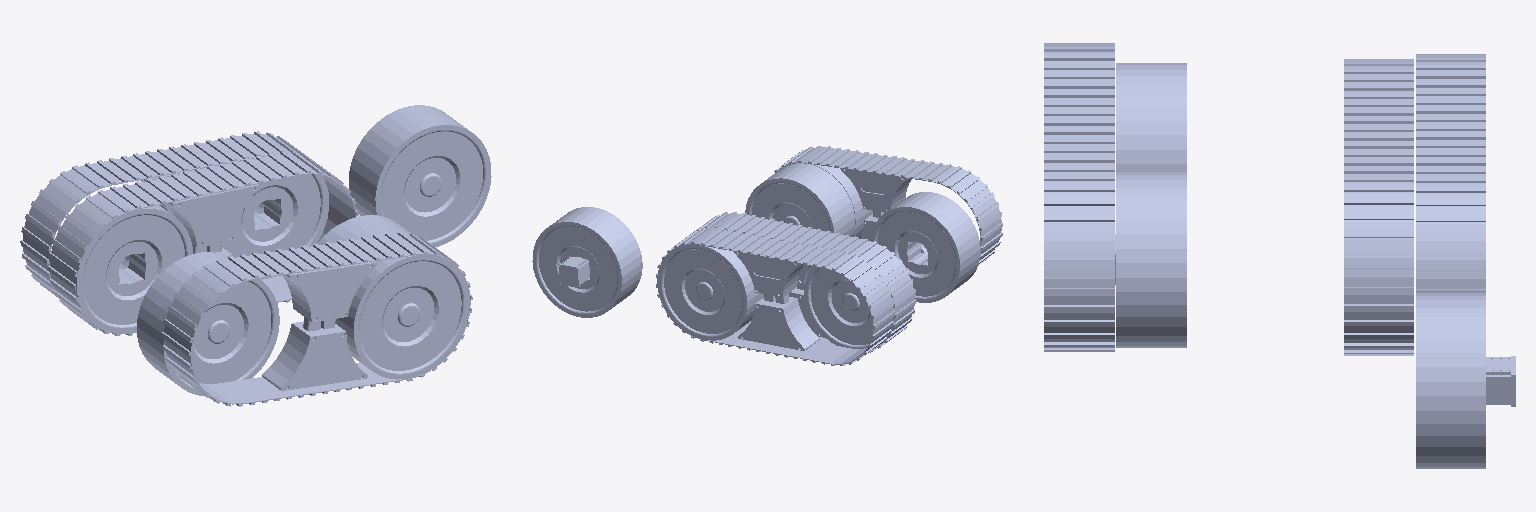
URDF robot description (robot-description-irvin):
<?xml version="1.0" encoding="utf-8"?>
<!-- This URDF was automatically created by SolidWorks to URDF Exporter! Originally created by [author] ([email redacted]) 
     Commit Version: 1.5.0-0-g9aa0fdb  Build Version: 1.5.7004.21443
     For more information, please see http://wiki.ros.org/sw_urdf_exporter -->
<robot
  name="robot-description-irvin">
    <gazebo>
    <plugin filename="libgazebo_ros_diff_drive.so" name="differential_drive_controller">
      <alwaysOn>true</alwaysOn>
      <updateRate>20</updateRate>
      <leftJoint>left_outer_track_rear_joint</leftJoint>
      <rightJoint>right_outer_rear_track_joint</rightJoint>
      <wheelSeparation>0.5207</wheelSeparation>
      <wheelDiameter>0.0381</wheelDiameter>
      <torque>0.1</torque>
      <commandTopic>cmd_vel</commandTopic>
      <odometryTopic>odom</odometryTopic>
      <odometryFrame>odom</odometryFrame>
      <robotBaseFrame>base_link</robotBaseFrame>
      <legacyMode>false</legacyMode>
    </plugin>
  </gazebo>
  <link
    name="base_link">
    <inertial>
      <origin
        xyz="0.0593277196241563 -0.229051233143237 0.316329557872373"
        rpy="0 0 0" />
      <mass
        value="6.90496213213785" />
      <inertia
        ixx="0.0618749358211769"
        ixy="-5.30670580740332E-07"
        ixz="-0.000799972791594144"
        iyy="0.0558956803247678"
        iyz="-5.54041887308258E-07"
        izz="0.0408724634072406" />
    </inertial>
    <visual>
      <origin
        xyz="0 0 0"
        rpy="0 0 0" />
      <geometry>
        <mesh
          filename="package://robot-description-irvin/meshes/base_link.STL" />
      </geometry>
      <material
        name="">
        <color
          rgba="0.792156862745098 0.819607843137255 0.933333333333333 1" />
      </material>
    </visual>
    <collision>
      <origin
        xyz="0 0 0"
        rpy="0 0 0" />
      <geometry>
        <mesh
          filename="package://robot-description-irvin/meshes/base_link.STL" />
      </geometry>
    </collision>
  </link>
  <link
    name="left_inner_rear_track_link">
    <inertial>
      <origin
        xyz="-0.35 0.0013359 -0.0002195"
        rpy="0 0 0" />
      <mass
        value="4.1753" />
      <inertia
        ixx="0.020717"
        ixy="-1.2309E-08"
        ixz="1.7916E-13"
        iyy="0.020715"
        iyz="2.5554E-11"
        izz="0.035633" />
    </inertial>
    <visual>
      <origin
        xyz="0 0 0"
        rpy="0 0 0" />
      <geometry>
        <mesh
          filename="package://robot-description-irvin/meshes/left_inner_rear_track_link.STL" />
      </geometry>
      <material
        name="">
        <color
          rgba="0.79216 0.81961 0.93333 1" />
      </material>
    </visual>
    <collision>
      <origin
        xyz="0 0 0"
        rpy="0 0 0" />
      <geometry>
        <mesh
          filename="package://robot-description-irvin/meshes/left_inner_rear_track_link.STL" />
      </geometry>
    </collision>
  </link>
  <joint
    name="left_inner_rear_track_joint"
    type="revolute">
    <origin
      xyz="0.40808 -0.068572 0.27695"
      rpy="1.5708 0.031025 0" />
    <parent
      link="base_link" />
    <child
      link="left_inner_rear_track_link" />
    <axis
      xyz="0 0 0" />
    <limit
      lower="0"
      upper="0"
      effort="0"
      velocity="0" />
    <safety_controller
      k_velocity="0" />
  </joint>
  <link
    name="left_inner_track_base_link">
    <inertial>
      <origin
        xyz="0.207914697106206 -0.00037461869138905 -0.00134460830658915"
        rpy="0 0 0" />
      <mass
        value="2.20888146035223" />
      <inertia
        ixx="0.0176750004221534"
        ixy="1.80580947801924E-07"
        ixz="-3.08108847310402E-06"
        iyy="0.0230757058106448"
        iyz="-1.32662462436398E-05"
        izz="0.0385405863901358" />
    </inertial>
    <visual>
      <origin
        xyz="0 0 0"
        rpy="0 0 0" />
      <geometry>
        <mesh
          filename="package://robot-description-irvin/meshes/left_inner_track_base_link.STL" />
      </geometry>
      <material
        name="">
        <color
          rgba="0.792156862745098 0.819607843137255 0.933333333333333 1" />
      </material>
    </visual>
    <collision>
      <origin
        xyz="0 0 0"
        rpy="0 0 0" />
      <geometry>
        <mesh
          filename="package://robot-description-irvin/meshes/left_inner_track_base_link.STL" />
      </geometry>
    </collision>
  </link>
  <joint
    name="left_inner_track_base_joint"
    type="fixed">
    <origin
      xyz="-0.38203 0.0023495 0.0065379"
      rpy="0 0 0" />
    <parent
      link="left_inner_rear_track_link" />
    <child
      link="left_inner_track_base_link" />
    <axis
      xyz="0 0 0" />
    <safety_controller
      k_velocity="0" />
  </joint>
  <link
    name="left_inner_front_track_link">
    <inertial>
      <origin
        xyz="0.000219496334918079 0.00133590913055326 -8.99941240734004E-06"
        rpy="0 0 0" />
      <mass
        value="4.17528833969494" />
      <inertia
        ixx="0.0356331254802435"
        ixy="2.55550739996529E-11"
        ixz="-2.01417804650358E-10"
        iyy="0.0207154350077636"
        iyz="1.02310762553862E-10"
        izz="0.0207172057262986" />
    </inertial>
    <visual>
      <origin
        xyz="0 0 0"
        rpy="0 0 0" />
      <geometry>
        <mesh
          filename="package://robot-description-irvin/meshes/left_inner_front_track_link.STL" />
      </geometry>
      <material
        name="">
        <color
          rgba="0.792156862745098 0.819607843137255 0.933333333333333 1" />
      </material>
    </visual>
    <collision>
      <origin
        xyz="0 0 0"
        rpy="0 0 0" />
      <geometry>
        <mesh
          filename="package://robot-description-irvin/meshes/left_inner_front_track_link.STL" />
      </geometry>
    </collision>
  </link>
  <joint
    name="left_inner_front_track_joint"
    type="revolute">
    <origin
      xyz="0.38203 -0.0023495 -0.0065379"
      rpy="3.1416 -1.5708 -3.1368" />
    <parent
      link="left_inner_track_base_link" />
    <child
      link="left_inner_front_track_link" />
    <axis
      xyz="0 0 0" />
    <limit
      lower="0"
      upper="0"
      effort="0"
      velocity="0" />
    <safety_controller
      k_velocity="0" />
  </joint>
  <link
    name="left_outer_track_front_link">
    <inertial>
      <origin
        xyz="0.000219496335038039 -4.75186556769813E-12 8.44879721739744E-14"
        rpy="0 0 0" />
      <mass
        value="4.17528833969494" />
      <inertia
        ixx="0.0356331254802435"
        ixy="-1.94648504078499E-10"
        ixz="5.74457396623407E-12"
        iyy="0.0207154350077636"
        iyz="1.02310762854013E-10"
        izz="0.0207172057262986" />
    </inertial>
    <visual>
      <origin
        xyz="0 0 0"
        rpy="0 0 0" />
      <geometry>
        <mesh
          filename="package://robot-description-irvin/meshes/left_outer_track_front_link.STL" />
      </geometry>
      <material
        name="">
        <color
          rgba="0.792156862745098 0.819607843137255 0.933333333333333 1" />
      </material>
    </visual>
    <collision>
      <origin
        xyz="0 0 0"
        rpy="0 0 0" />
      <geometry>
        <mesh
          filename="package://robot-description-irvin/meshes/left_outer_track_front_link.STL" />
      </geometry>
    </collision>
  </link>
  <joint
    name="left_outer_track_front_joint"
    type="revolute">
    <origin
      xyz="-0.10172 0.0013359 0"
      rpy="3.1416 0 3.1416" />
    <parent
      link="left_inner_front_track_link" />
    <child
      link="left_outer_track_front_link" />
    <axis
      xyz="0 0 0" />
    <limit
      lower="0"
      upper="0"
      effort="0"
      velocity="0" />
    <safety_controller
      k_velocity="0" />
  </joint>
  <link
    name="left_out_track_base_link">
    <inertial>
      <origin
        xyz="0.207914697106206 -0.000374618691388662 -0.00134460830658937"
        rpy="0 0 0" />
      <mass
        value="2.20888146035223" />
      <inertia
        ixx="0.0176750004221534"
        ixy="1.80580947832824E-07"
        ixz="-3.08108847311774E-06"
        iyy="0.0230757058106447"
        iyz="-1.32662462436444E-05"
        izz="0.0385405863901357" />
    </inertial>
    <visual>
      <origin
        xyz="0 0 0"
        rpy="0 0 0" />
      <geometry>
        <mesh
          filename="package://robot-description-irvin/meshes/left_out_track_base_link.STL" />
      </geometry>
      <material
        name="">
        <color
          rgba="0.792156862745098 0.819607843137255 0.933333333333333 1" />
      </material>
    </visual>
    <collision>
      <origin
        xyz="0 0 0"
        rpy="0 0 0" />
      <geometry>
        <mesh
          filename="package://robot-description-irvin/meshes/left_out_track_base_link.STL" />
      </geometry>
    </collision>
  </link>
  <joint
    name="left_out_track_base_joint"
    type="fixed">
    <origin
      xyz="-0.0065379 0.011325 -0.38187"
      rpy="1.5708 -1.5438 -1.5708" />
    <parent
      link="left_outer_track_front_link" />
    <child
      link="left_out_track_base_link" />
    <axis
      xyz="0 0 0" />
    <safety_controller
      k_velocity="0" />
  </joint>
  <link
    name="left_outer_track_rear_link">
    <inertial>
      <origin
        xyz="-0.103779813928151 -0.00353814246978357 0.3500116932782"
        rpy="0 0 0" />
      <mass
        value="4.50966940783013" />
      <inertia
        ixx="0.0357811712676882"
        ixy="2.55694481991313E-11"
        ixz="-2.75684776123974E-09"
        iyy="0.0215005330957408"
        iyz="1.02310762441461E-10"
        izz="0.0215020932401328" />
    </inertial>
    <visual>
      <origin
        xyz="0 0 0"
        rpy="0 0 0" />
      <geometry>
        <mesh
          filename="package://robot-description-irvin/meshes/left_outer_track_rear_link.STL" />
      </geometry>
      <material
        name="">
        <color
          rgba="0.792156862745098 0.819607843137255 0.933333333333333 1" />
      </material>
    </visual>
    <collision>
      <origin
        xyz="0 0 0"
        rpy="0 0 0" />
      <geometry>
        <mesh
          filename="package://robot-description-irvin/meshes/left_outer_track_rear_link.STL" />
      </geometry>
    </collision>
  </link>
  <joint
    name="left_outer_track_rear_joint"
    type="continuous">
    <origin
      xyz="0.38206 -0.0023492 0.095182"
      rpy="3.1277 -1.5708 0" />
    <parent
      link="left_out_track_base_link" />
    <child
      link="left_outer_track_rear_link" />
    <axis
      xyz="0 0 -1" />
    <safety_controller
      k_velocity="0" />
  </joint>
  <link
    name="right_inner_track_link">
    <inertial>
      <origin
        xyz="0.000219496335037983 1.50746082283604E-12 -1.14824816321857E-13"
        rpy="0 0 0" />
      <mass
        value="4.17528833969495" />
      <inertia
        ixx="0.0356331254802435"
        ixy="-2.54811794464166E-11"
        ixz="1.94202072045672E-12"
        iyy="0.0207154452496313"
        iyz="1.34277993979232E-07"
        izz="0.0207171954844308" />
    </inertial>
    <visual>
      <origin
        xyz="0 0 0"
        rpy="0 0 0" />
      <geometry>
        <mesh
          filename="package://robot-description-irvin/meshes/right_inner_track_link.STL" />
      </geometry>
      <material
        name="">
        <color
          rgba="0.792156862745098 0.819607843137255 0.933333333333333 1" />
      </material>
    </visual>
    <collision>
      <origin
        xyz="0 0 0"
        rpy="0 0 0" />
      <geometry>
        <mesh
          filename="package://robot-description-irvin/meshes/right_inner_track_link.STL" />
      </geometry>
    </collision>
  </link>
  <joint
    name="right_inner_track_joint"
    type="revolute">
    <origin
      xyz="0.058294 -0.38953 0.28914"
      rpy="1.6088 0 -1.5708" />
    <parent
      link="base_link" />
    <child
      link="right_inner_track_link" />
    <axis
      xyz="0 0 0" />
    <limit
      lower="0"
      upper="0"
      effort="0"
      velocity="0" />
    <safety_controller
      k_velocity="0" />
  </joint>
  <link
    name="right_inner_track_base_link">
    <inertial>
      <origin
        xyz="0.175882862618142 0.000638911171242873 -0.00480669220342189"
        rpy="0 0 0" />
      <mass
        value="2.20888146035223" />
      <inertia
        ixx="0.0176750004221534"
        ixy="1.80580947836863E-07"
        ixz="-3.08108847312725E-06"
        iyy="0.0230757058106447"
        iyz="-1.3266246243635E-05"
        izz="0.0385405863901357" />
    </inertial>
    <visual>
      <origin
        xyz="0 0 0"
        rpy="0 0 0" />
      <geometry>
        <mesh
          filename="package://robot-description-irvin/meshes/right_inner_track_base_link.STL" />
      </geometry>
      <material
        name="">
        <color
          rgba="0.792156862745098 0.819607843137255 0.933333333333333 1" />
      </material>
    </visual>
    <collision>
      <origin
        xyz="0 0 0"
        rpy="0 0 0" />
      <geometry>
        <mesh
          filename="package://robot-description-irvin/meshes/right_inner_track_base_link.STL" />
      </geometry>
    </collision>
  </link>
  <joint
    name="right_inner_track_base_joint"
    type="fixed">
    <origin
      xyz="0.01 0 0"
      rpy="-1.5708 1.5171 -1.5708" />
    <parent
      link="right_inner_track_link" />
    <child
      link="right_inner_track_base_link" />
    <axis
      xyz="0 0 0" />
    <safety_controller
      k_velocity="0" />
  </joint>
  <link
    name="right_inner_track_front_link">
    <inertial>
      <origin
        xyz="0.000219496335038039 3.99963395736336E-12 1.30506716544687E-13"
        rpy="0 0 0" />
      <mass
        value="4.17528833969495" />
      <inertia
        ixx="0.0356331254802435"
        ixy="1.43625593680623E-10"
        ixz="3.84908041827058E-12"
        iyy="0.0207154377132131"
        iyz="-6.91612649754836E-08"
        izz="0.0207172030208491" />
    </inertial>
    <visual>
      <origin
        xyz="0 0 0"
        rpy="0 0 0" />
      <geometry>
        <mesh
          filename="package://robot-description-irvin/meshes/right_inner_track_front_link.STL" />
      </geometry>
      <material
        name="">
        <color
          rgba="0.792156862745098 0.819607843137255 0.933333333333333 1" />
      </material>
    </visual>
    <collision>
      <origin
        xyz="0 0 0"
        rpy="0 0 0" />
      <geometry>
        <mesh
          filename="package://robot-description-irvin/meshes/right_inner_track_front_link.STL" />
      </geometry>
    </collision>
  </link>
  <joint
    name="right_inner_track_front_joint"
    type="revolute">
    <origin
      xyz="0.35 0 -0.01"
      rpy="0.045111 1.5708 0" />
    <parent
      link="right_inner_track_base_link" />
    <child
      link="right_inner_track_front_link" />
    <axis
      xyz="0 0 0" />
    <limit
      lower="0"
      upper="0"
      effort="0"
      velocity="0" />
    <safety_controller
      k_velocity="0" />
  </joint>
  <link
    name="right_outer_track_front_link">
    <inertial>
      <origin
        xyz="1.3996026559937E-12 -0.0533139967701027 3.75642966732315E-08"
        rpy="0 0 0" />
      <mass
        value="4.50966940783013" />
      <inertia
        ixx="0.0214124438142607"
        ixy="2.55670994315511E-11"
        ixz="1.02310770342924E-10"
        iyy="0.0357811712676882"
        iyz="-6.2922995653407E-09"
        izz="0.0214140039586526" />
    </inertial>
    <visual>
      <origin
        xyz="0 0 0"
        rpy="0 0 0" />
      <geometry>
        <mesh
          filename="package://robot-description-irvin/meshes/right_outer_track_front_link.STL" />
      </geometry>
      <material
        name="">
        <color
          rgba="0.792156862745098 0.819607843137255 0.933333333333333 1" />
      </material>
    </visual>
    <collision>
      <origin
        xyz="0 0 0"
        rpy="0 0 0" />
      <geometry>
        <mesh
          filename="package://robot-description-irvin/meshes/right_outer_track_front_link.STL" />
      </geometry>
    </collision>
  </link>
  <joint
    name="right_outer_track_front_joint"
    type="revolute">
    <origin
      xyz="-0.04672 0 0"
      rpy="0 -1.5316 -1.5708" />
    <parent
      link="right_inner_track_front_link" />
    <child
      link="right_outer_track_front_link" />
    <axis
      xyz="0 0 0" />
    <limit
      lower="0"
      upper="0"
      effort="0"
      velocity="0" />
    <safety_controller
      k_velocity="0" />
  </joint>
  <link
    name="right_outer_track_base_link">
    <inertial>
      <origin
        xyz="0.207914697106206 -0.000374618691388662 -0.0013446083065895"
        rpy="0 0 0" />
      <mass
        value="2.20888146035223" />
      <inertia
        ixx="0.0176750004221534"
        ixy="1.8058094778396E-07"
        ixz="-3.08108847310432E-06"
        iyy="0.0230757058106449"
        iyz="-1.32662462436481E-05"
        izz="0.0385405863901359" />
    </inertial>
    <visual>
      <origin
        xyz="0 0 0"
        rpy="0 0 0" />
      <geometry>
        <mesh
          filename="package://robot-description-irvin/meshes/right_outer_track_base_link.STL" />
      </geometry>
      <material
        name="">
        <color
          rgba="0.792156862745098 0.819607843137255 0.933333333333333 1" />
      </material>
    </visual>
    <collision>
      <origin
        xyz="0 0 0"
        rpy="0 0 0" />
      <geometry>
        <mesh
          filename="package://robot-description-irvin/meshes/right_outer_track_base_link.STL" />
      </geometry>
    </collision>
  </link>
  <joint
    name="right_outer_track_base_joint"
    type="fixed">
    <origin
      xyz="-0.38202 -0.061538 -0.0027053"
      rpy="1.5708 -0.0097345 0" />
    <parent
      link="right_outer_track_front_link" />
    <child
      link="right_outer_track_base_link" />
    <axis
      xyz="0 0 0" />
    <safety_controller
      k_velocity="0" />
  </joint>
  <link
    name="right_outer_rear_track_joint">
    <inertial>
      <origin
        xyz="-0.00205981876088107 -0.00999999113179895 -3.65024844378725E-08"
        rpy="0 0 0" />
      <mass
        value="4.50966940783013" />
      <inertia
        ixx="0.0357811712676883"
        ixy="6.29232664181182E-10"
        ixz="-2.48127828898167E-09"
        iyy="0.0215006200286184"
        iyz="-3.578694269125E-07"
        izz="0.0215020063072552" />
    </inertial>
    <visual>
      <origin
        xyz="0 0 0"
        rpy="0 0 0" />
      <geometry>
        <mesh
          filename="package://robot-description-irvin/meshes/right_outer_rear_track_joint.STL" />
      </geometry>
      <material
        name="">
        <color
          rgba="0.792156862745098 0.819607843137255 0.933333333333333 1" />
      </material>
    </visual>
    <collision>
      <origin
        xyz="0 0 0"
        rpy="0 0 0" />
      <geometry>
        <mesh
          filename="package://robot-description-irvin/meshes/right_outer_rear_track_joint.STL" />
      </geometry>
    </collision>
  </link>
  <joint
    name="right_outer_rear_track_joint"
    type="continuous">
    <origin
      xyz="0.033221 -0.010943 -0.0065379"
      rpy="3.0224 1.5708 0" />
    <parent
      link="right_outer_track_base_link" />
    <child
      link="right_outer_rear_track_joint" />
    <axis
      xyz="0 0 -1" />
    <safety_controller
      k_velocity="0" />
  </joint>
  <link
    name="torso_upper_link">
    <inertial>
      <origin
        xyz="9.37829586461492E-07 0.0377357679131104 0.00620378853168122"
        rpy="0 0 0" />
      <mass
        value="10.7560435121429" />
      <inertia
        ixx="0.126725000951128"
        ixy="5.37495458695421E-06"
        ixz="-1.6123169588652E-06"
        iyy="0.0655091626527598"
        iyz="0.000331778108296721"
        izz="0.155706969791532" />
    </inertial>
    <visual>
      <origin
        xyz="0 0 0"
        rpy="0 0 0" />
      <geometry>
        <mesh
          filename="package://robot-description-irvin/meshes/torso_upper_link.STL" />
      </geometry>
      <material
        name="">
        <color
          rgba="0.792156862745098 0.819607843137255 0.933333333333333 1" />
      </material>
    </visual>
    <collision>
      <origin
        xyz="0 0 0"
        rpy="0 0 0" />
      <geometry>
        <mesh
          filename="package://robot-description-irvin/meshes/torso_upper_link.STL" />
      </geometry>
    </collision>
  </link>
  <joint
    name="torso_upper_joint"
    type="fixed">
    <origin
      xyz="0.066422 -0.22881 0.63873"
      rpy="1.6088 0.001755 1.5247" />
    <parent
      link="base_link" />
    <child
      link="torso_upper_link" />
    <axis
      xyz="0 0 0" />
    <safety_controller
      k_velocity="0" />
  </joint>
</robot>

--- What the picture shows (computed from the rendered views, not written in the file) ---
3 views of the same robot in one strip: view 1: azimuth 30°, elevation 25°; view 2: azimuth 150°, elevation 25°; view 3: azimuth 270°, elevation 25° (orthographic).
Robot: robot-description-irvin — 14 links, 13 joints (6 revolute, 2 continuous, 5 fixed); root link base_link; default pose: every joint at zero.
Links seen in each view (by area): view 1: right_outer_track_base_link, left_inner_track_base_link, left_outer_track_rear_link, right_outer_track_front_link, right_inner_track_link, left_out_track_base_link, left_inner_rear_track_link, left_outer_track_front_link, right_inner_track_front_link; view 2: left_out_track_base_link, left_outer_track_rear_link, right_inner_track_link, right_outer_track_base_link, left_outer_track_front_link, left_inner_track_base_link, right_inner_track_front_link, left_inner_rear_track_link, right_outer_track_front_link; view 3: right_outer_track_base_link, left_inner_track_base_link, left_out_track_base_link, left_outer_track_rear_link, right_inner_track_front_link, right_inner_track_link.
Link boxes in pixels (x1,y1,x2,y2): right_outer_track_base_link: [162, 232, 472, 406]; left_inner_track_base_link: [48, 151, 358, 335]; left_outer_track_rear_link: [349, 105, 491, 246]; right_outer_track_front_link: [335, 255, 469, 379]; right_inner_track_link: [137, 252, 279, 396]; left_out_track_base_link: [20, 131, 328, 298]; left_inner_rear_track_link: [77, 205, 192, 332]; left_outer_track_front_link: [222, 159, 328, 278]; right_inner_track_front_link: [317, 215, 409, 244]; left_out_track_base_link: [656, 227, 894, 365]; left_outer_track_rear_link: [532, 207, 642, 317]; right_inner_track_link: [871, 192, 980, 302]; right_outer_track_base_link: [770, 146, 1002, 265]; left_outer_track_front_link: [658, 244, 763, 340]; left_inner_track_base_link: [691, 212, 916, 352]; right_inner_track_front_link: [745, 163, 854, 236]; left_inner_rear_track_link: [804, 266, 891, 348]; right_outer_track_front_link: [785, 163, 872, 238]; right_outer_track_base_link: [1044, 43, 1114, 351]; left_inner_track_base_link: [1344, 59, 1413, 355]; left_out_track_base_link: [1416, 54, 1485, 292]; left_outer_track_rear_link: [1416, 293, 1515, 468]; right_inner_track_front_link: [1116, 171, 1186, 347]; right_inner_track_link: [1116, 63, 1186, 170].
Bounding box of the posed robot: 0.9549 × 0.6654 × 0.314 m (x, y, z).
Meshes: 14 distinct files referenced, 9 mesh visuals loaded (9 binary STL); not drawn: 5 (reference not matched to a file when rendering).
